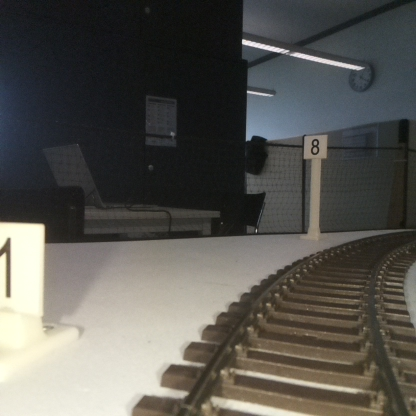white-info-8: (304, 135, 326, 240)
